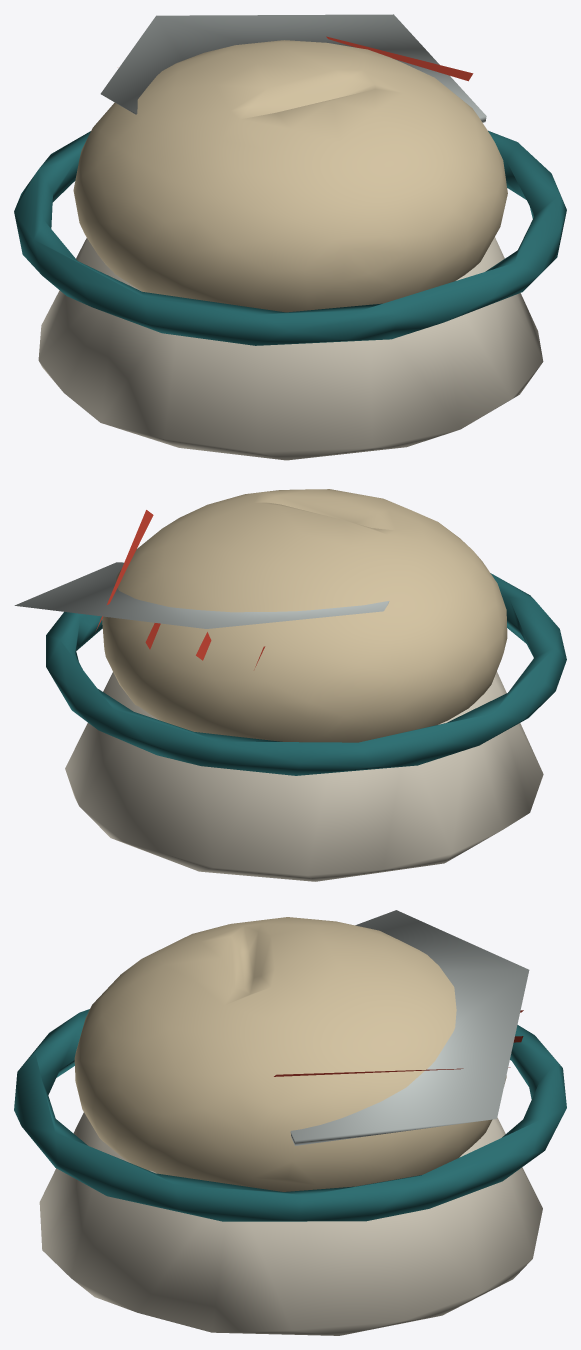
The model's file is bot_u_to.glb.
3 renders of one model, top to bottom at view 1: azimuth 30°, elevation 25°; view 2: azimuth 150°, elevation 25°; view 3: azimuth 270°, elevation 25°, orthographic. The views are drawn at different scales.
Parts seen in each view (by area): view 1: bot_u_to; view 2: bot_u_to; view 3: bot_u_to.
Boxes of the visible parts, left/top/right/bottom form: bot_u_to: left=14, top=14, right=566, bottom=460; bot_u_to: left=14, top=489, right=566, bottom=881; bot_u_to: left=14, top=910, right=566, bottom=1335.
Bounding box in the file's own units: 0.2567 × 0.1441 × 0.2554.
